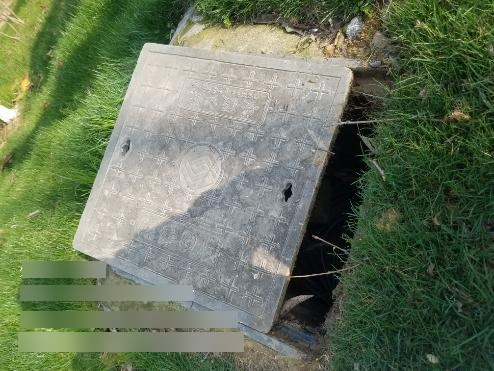uncovered: (73, 43, 390, 359)
